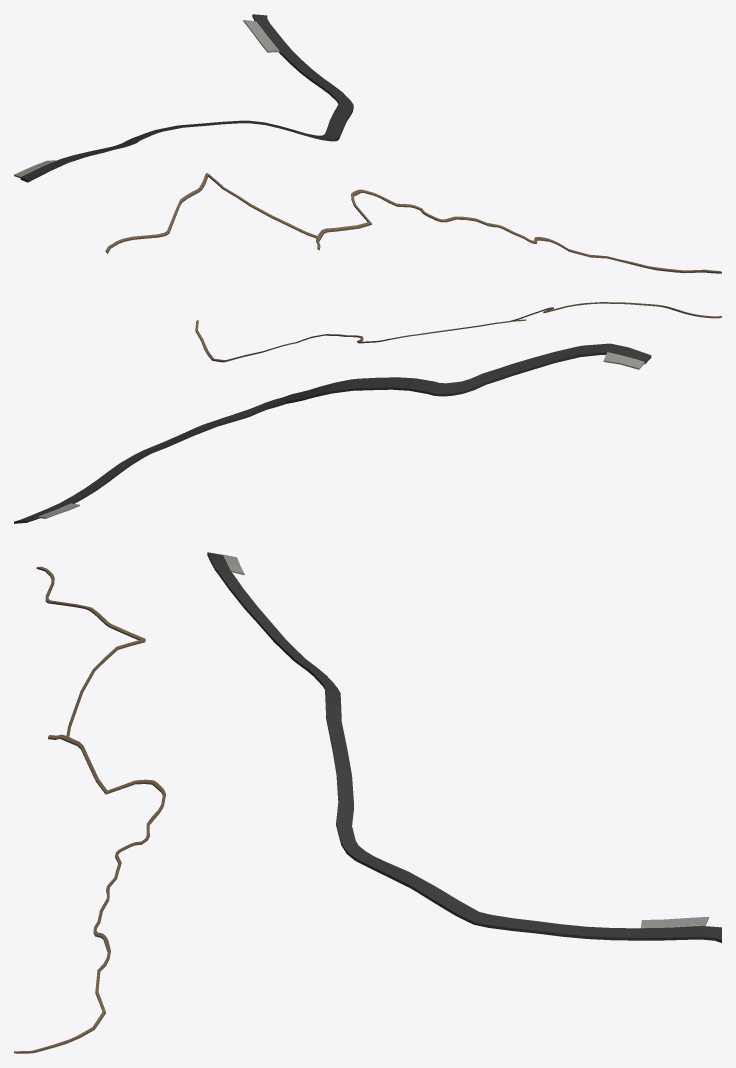
3 renders of one model, top to bottom at view 1: azimuth 30°, elevation 25°; view 2: azimuth 150°, elevation 25°; view 3: azimuth 270°, elevation 25°, orthographic. The views are drawn at different scales.
Bounding box in the file's own units: 293 × 86.9 × 279.
